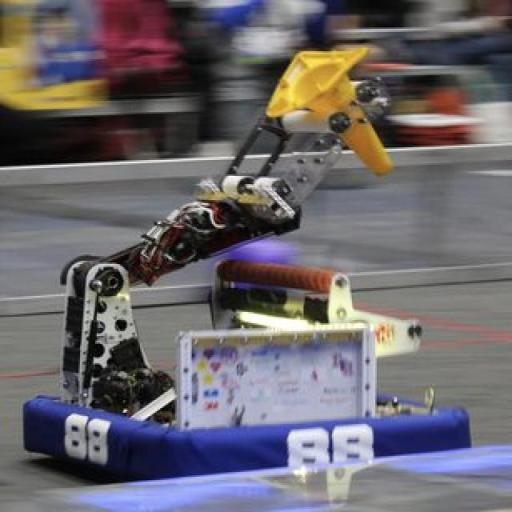robot: (14, 11, 494, 490)
